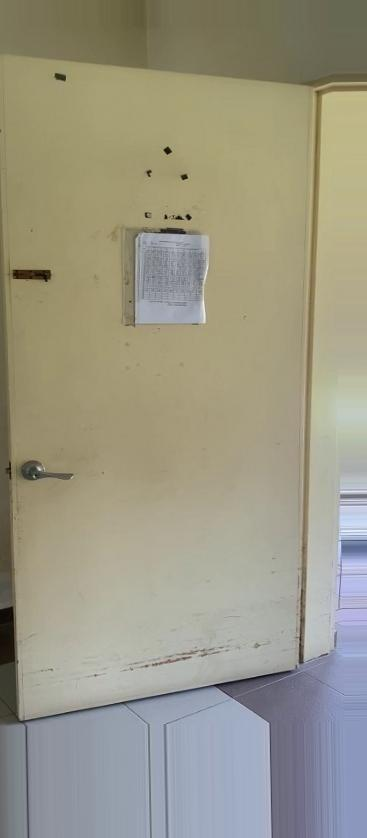door: (1, 41, 304, 715)
